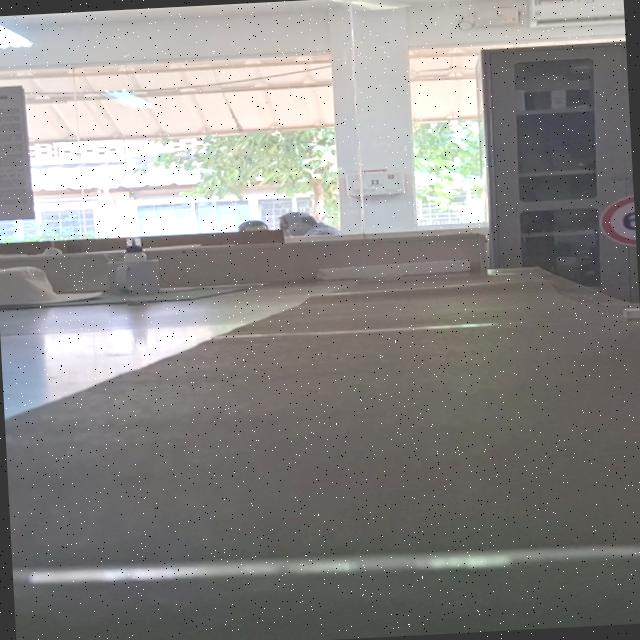Speed60: (596, 192, 636, 250)
